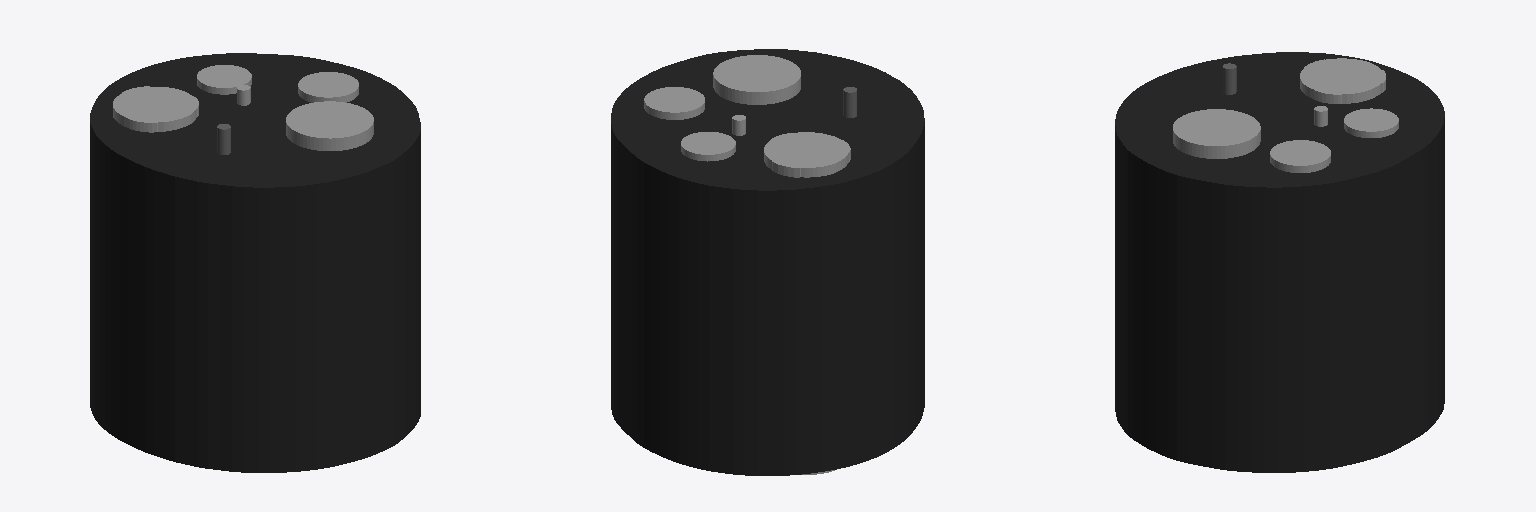
File: phantom_alex.obj
The picture shows the model from 3 angles: view 1: azimuth 30°, elevation 25°; view 2: azimuth 150°, elevation 25°; view 3: azimuth 270°, elevation 25°; orthographic projection.
Parts seen in each view (by area): view 1: big_cylinder_Cylinder.001, rod_4_Circle.002, rod_1_Circle.001, rod_3_Circle.007, rod_2_Circle.006; view 2: big_cylinder_Cylinder.001, rod_4_Circle.002, rod_1_Circle.001, rod_3_Circle.007, rod_2_Circle.006; view 3: big_cylinder_Cylinder.001, rod_4_Circle.002, rod_1_Circle.001, rod_3_Circle.007, rod_2_Circle.006.
Part boxes in pixels (bbox=[...]): big_cylinder_Cylinder.001: bbox=[90, 53, 420, 472]; rod_4_Circle.002: bbox=[286, 101, 373, 150]; rod_1_Circle.001: bbox=[113, 86, 198, 132]; rod_3_Circle.007: bbox=[298, 72, 358, 102]; rod_2_Circle.006: bbox=[197, 65, 251, 94]; big_cylinder_Cylinder.001: bbox=[611, 49, 924, 475]; rod_4_Circle.002: bbox=[713, 55, 800, 104]; rod_1_Circle.001: bbox=[764, 132, 850, 474]; rod_3_Circle.007: bbox=[644, 87, 704, 119]; rod_2_Circle.006: bbox=[681, 132, 735, 161]; big_cylinder_Cylinder.001: bbox=[1115, 52, 1444, 472]; rod_4_Circle.002: bbox=[1173, 109, 1260, 158]; rod_1_Circle.001: bbox=[1300, 58, 1385, 103]; rod_3_Circle.007: bbox=[1270, 140, 1330, 172]; rod_2_Circle.006: bbox=[1344, 108, 1398, 137].
Size of the model in its own units: 1.94 by 2.16 by 2.